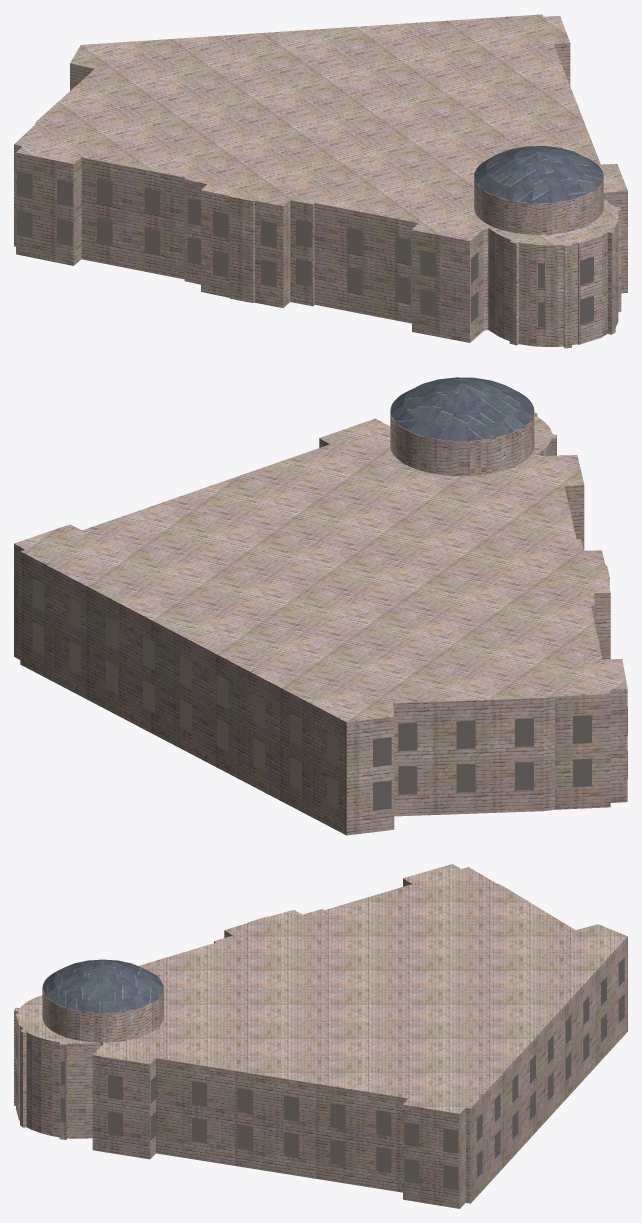
File: musee-guimet.glb
3 views of the same model, one above another, from view 1: azimuth 30°, elevation 25°; view 2: azimuth 150°, elevation 25°; view 3: azimuth 270°, elevation 25° (orthographic). The views are drawn at different scales.
Visible parts, largest first — view 1: stone, window, roof, trim; view 2: stone, window, roof, trim; view 3: stone, window, roof, trim.
Boxes of the visible parts, x1,y1,x2,y2 form: stone: (14, 14, 627, 348); window: (17, 171, 593, 327); roof: (474, 146, 603, 203); trim: (14, 44, 627, 248); stone: (14, 390, 627, 835); window: (32, 578, 627, 810); roof: (390, 377, 533, 441); trim: (14, 415, 618, 724); stone: (14, 864, 627, 1208); window: (15, 957, 624, 1190); roof: (42, 959, 163, 1013); trim: (17, 879, 624, 1115).
Size of the model in its own units: 73.26 by 20 by 76.08.
4 materials, 4 textured.
